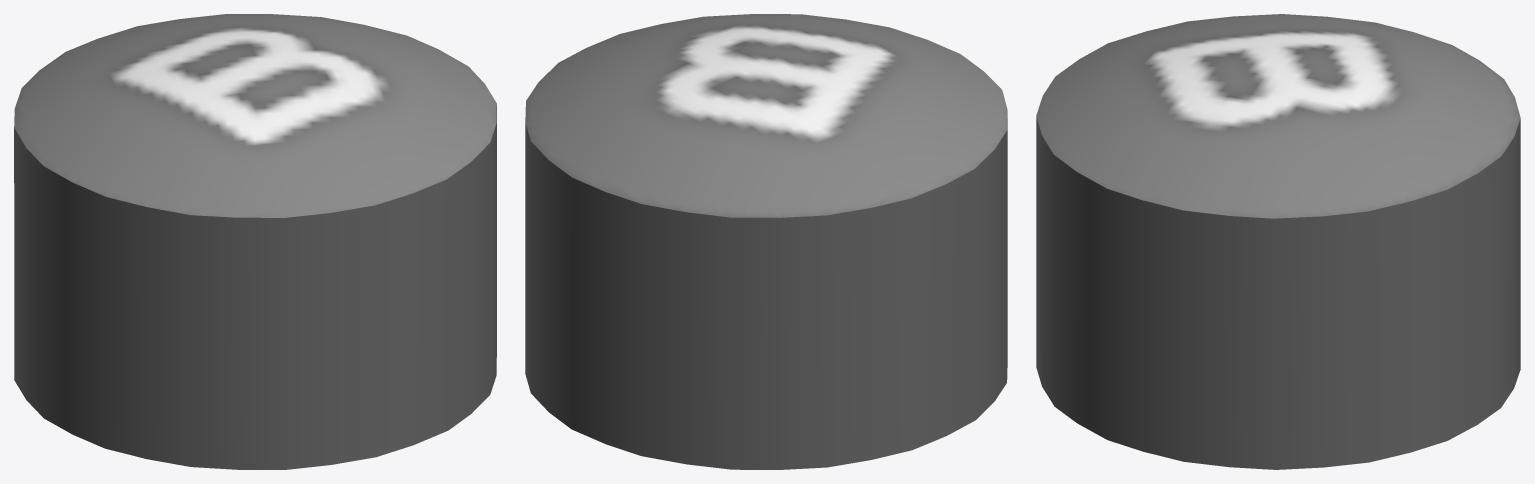
3 renders of one model, left to right at view 1: azimuth 30°, elevation 25°; view 2: azimuth 150°, elevation 25°; view 3: azimuth 270°, elevation 25°, orthographic.
Size of the model in its own units: 0.00967 by 0.0066 by 0.00967.
1 material, 1 textured.
